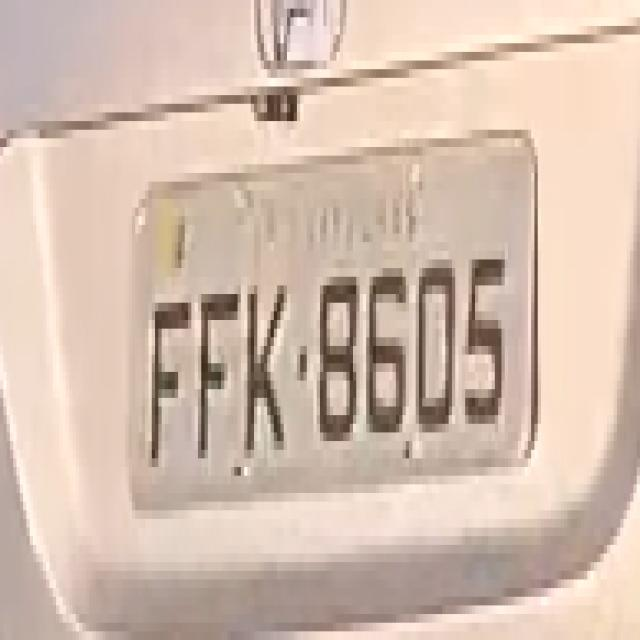Placa_mercosul_carro: (128, 131, 537, 507)
